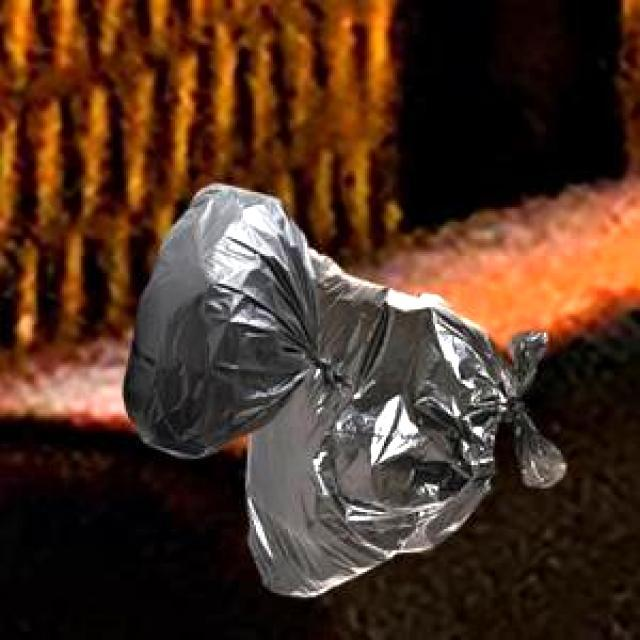Garbage_Bag: (242, 248, 562, 596), (120, 180, 349, 456)
